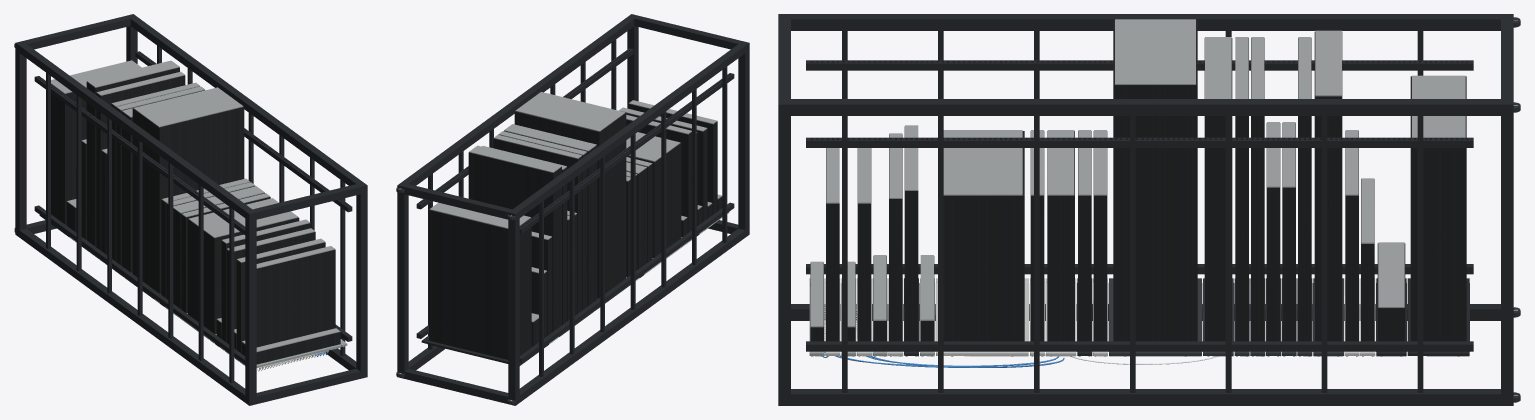
File: cisco-enterprise-42u.glb
3 renders of one model, left to right at view 1: azimuth 30°, elevation 25°; view 2: azimuth 150°, elevation 25°; view 3: azimuth 270°, elevation 25°, orthographic. The views are drawn at different scales.
Visible parts, largest first — view 1: RACK_FRAME__nexus_black, SIDE_BRACES__nexus_black, UCS_5108__steel_textured, C9300_48P__steel_textured, MOUNTING_RAILS__nexus_black, C9404R__steel_textured, CISCO_UPS__steel_textured, UCS_5108__cisco_grey_dark, UCS_C245__steel_textured, UCS_C225__steel_textured, UCS_C240__steel_textured, C9404R__cisco_grey_dark (+25 smaller); view 2: RACK_FRAME__nexus_black, CISCO_UPS__steel_textured, SIDE_BRACES__nexus_black, UCS_5108__steel_textured, UCS_C245__steel_textured, MOUNTING_RAILS__nexus_black, C9404R__steel_textured, UCS_5108__cisco_grey_dark, UCS_C220_B__steel_textured, UCS_C240__steel_textured, NEXUS_9336C__steel_textured, C9300_48P__steel_textured (+17 smaller); view 3: RACK_FRAME__nexus_black, MOUNTING_RAILS__nexus_black, UCS_5108__steel_textured, SIDE_BRACES__nexus_black, C9404R__steel_textured, CISCO_UPS__steel_textured, UCS_C245__steel_textured, UCS_C240__steel_textured, UCS_5108__cisco_grey_dark, C9404R__cisco_grey_dark, ISR_4451X__steel_textured, UCS_C220_B__steel_textured (+41 smaller).
Part boxes in pixels (x1,y1,x2,y2): RACK_FRAME__nexus_black: [15, 14, 367, 405]; SIDE_BRACES__nexus_black: [46, 45, 345, 383]; UCS_5108__steel_textured: [132, 107, 244, 293]; C9300_48P__steel_textured: [256, 249, 335, 347]; MOUNTING_RAILS__nexus_black: [34, 51, 352, 364]; C9404R__steel_textured: [187, 217, 299, 334]; CISCO_UPS__steel_textured: [51, 84, 86, 224]; UCS_5108__cisco_grey_dark: [133, 87, 243, 127]; UCS_C245__steel_textured: [86, 67, 179, 246]; UCS_C225__steel_textured: [96, 75, 185, 250]; UCS_C240__steel_textured: [121, 111, 132, 272]; C9404R__cisco_grey_dark: [188, 198, 298, 237]; RACK_FRAME__nexus_black: [397, 14, 749, 405]; CISCO_UPS__steel_textured: [429, 210, 531, 359]; SIDE_BRACES__nexus_black: [428, 39, 727, 376]; UCS_5108__steel_textured: [514, 111, 626, 298]; UCS_C245__steel_textured: [468, 152, 561, 331]; MOUNTING_RAILS__nexus_black: [416, 48, 734, 363]; C9404R__steel_textured: [627, 143, 681, 258]; UCS_5108__cisco_grey_dark: [515, 92, 625, 131]; UCS_C220_B__steel_textured: [493, 138, 582, 313]; UCS_C240__steel_textured: [504, 131, 597, 306]; NEXUS_9336C__steel_textured: [626, 119, 691, 232]; C9300_48P__steel_textured: [628, 104, 717, 214]; RACK_FRAME__nexus_black: [778, 14, 1513, 405]; MOUNTING_RAILS__nexus_black: [806, 60, 1473, 351]; UCS_5108__steel_textured: [1113, 20, 1197, 341]; SIDE_BRACES__nexus_black: [842, 31, 1423, 392]; C9404R__steel_textured: [943, 131, 1024, 341]; CISCO_UPS__steel_textured: [1410, 76, 1466, 341]; UCS_C245__steel_textured: [1314, 32, 1342, 341]; UCS_C240__steel_textured: [1204, 38, 1232, 341]; UCS_5108__cisco_grey_dark: [1115, 19, 1195, 84]; C9404R__cisco_grey_dark: [943, 130, 1022, 195]; ISR_4451X__steel_textured: [1047, 131, 1074, 341]; UCS_C220_B__steel_textured: [1251, 38, 1264, 341].
Size of the model in its own units: 0.609 by 0.9634 by 2.1.
Materials: 33 (5 with a texture image).
